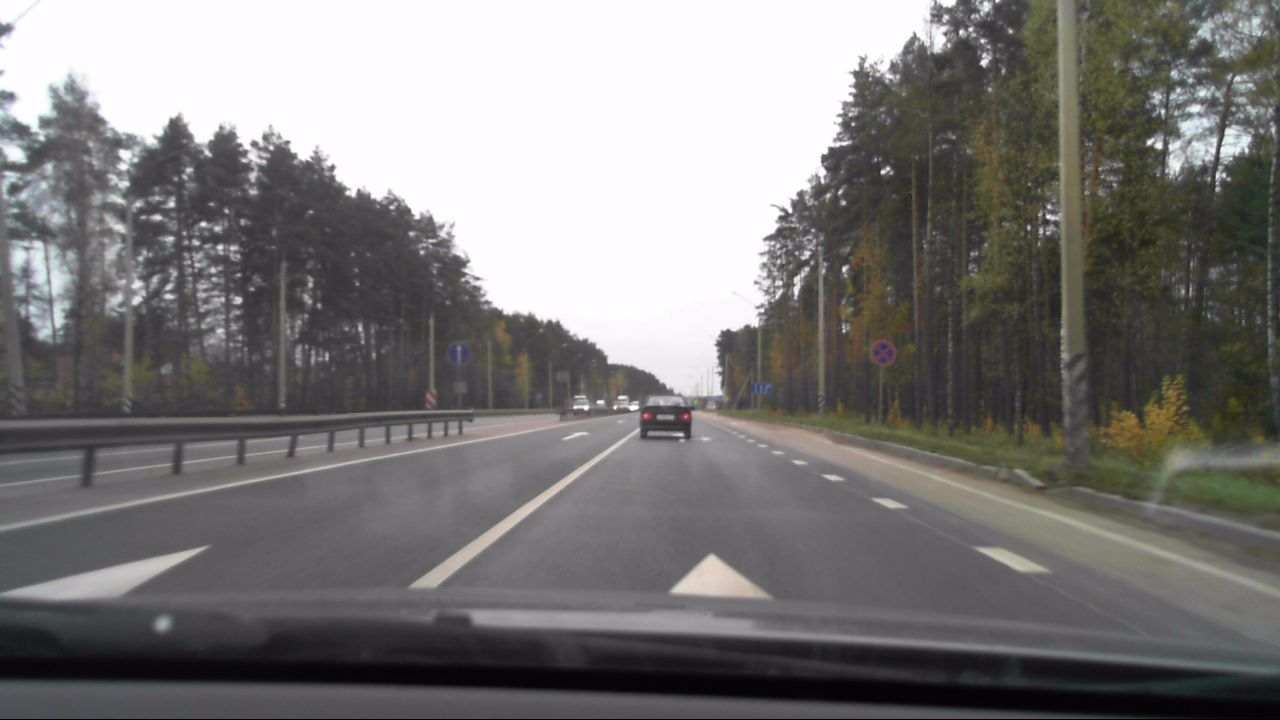No Parking: (868, 339, 898, 368)
